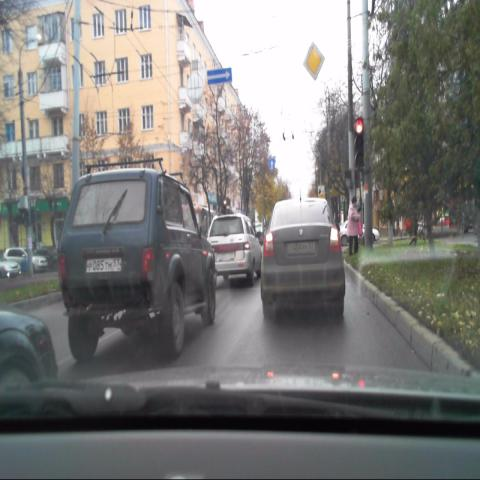5_7_1: (207, 69, 231, 85)
